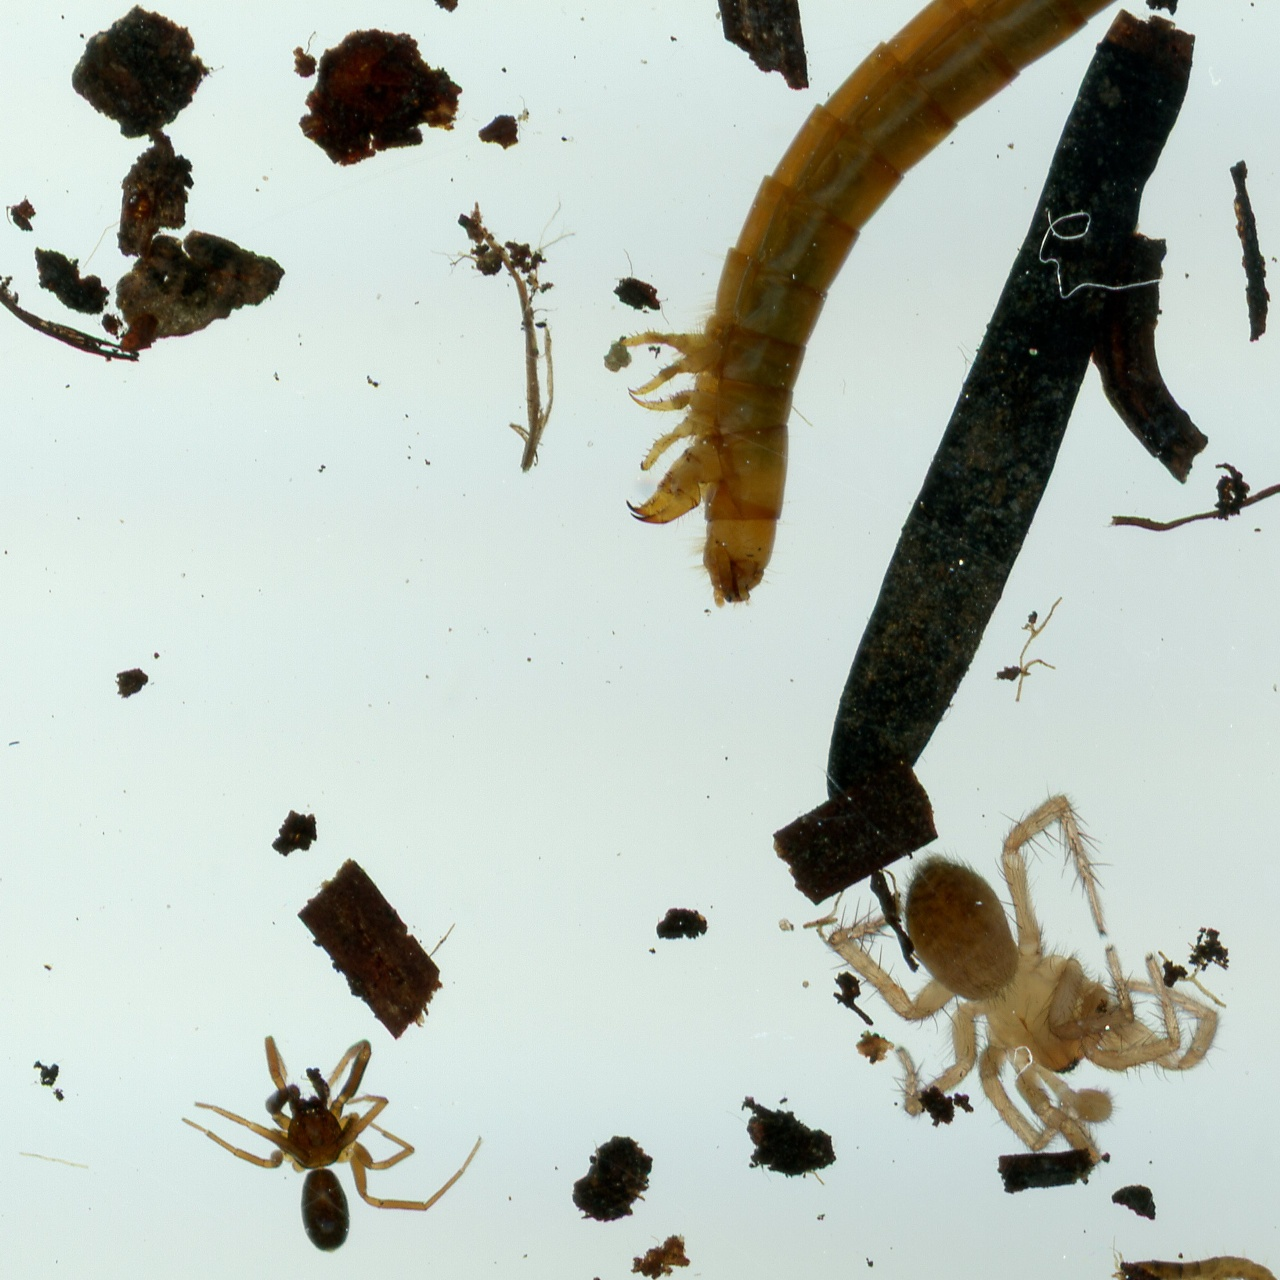arthropod: (618, 0, 1251, 610), (817, 788, 1223, 1167), (179, 1036, 486, 1251), (1101, 1237, 1280, 1280)
